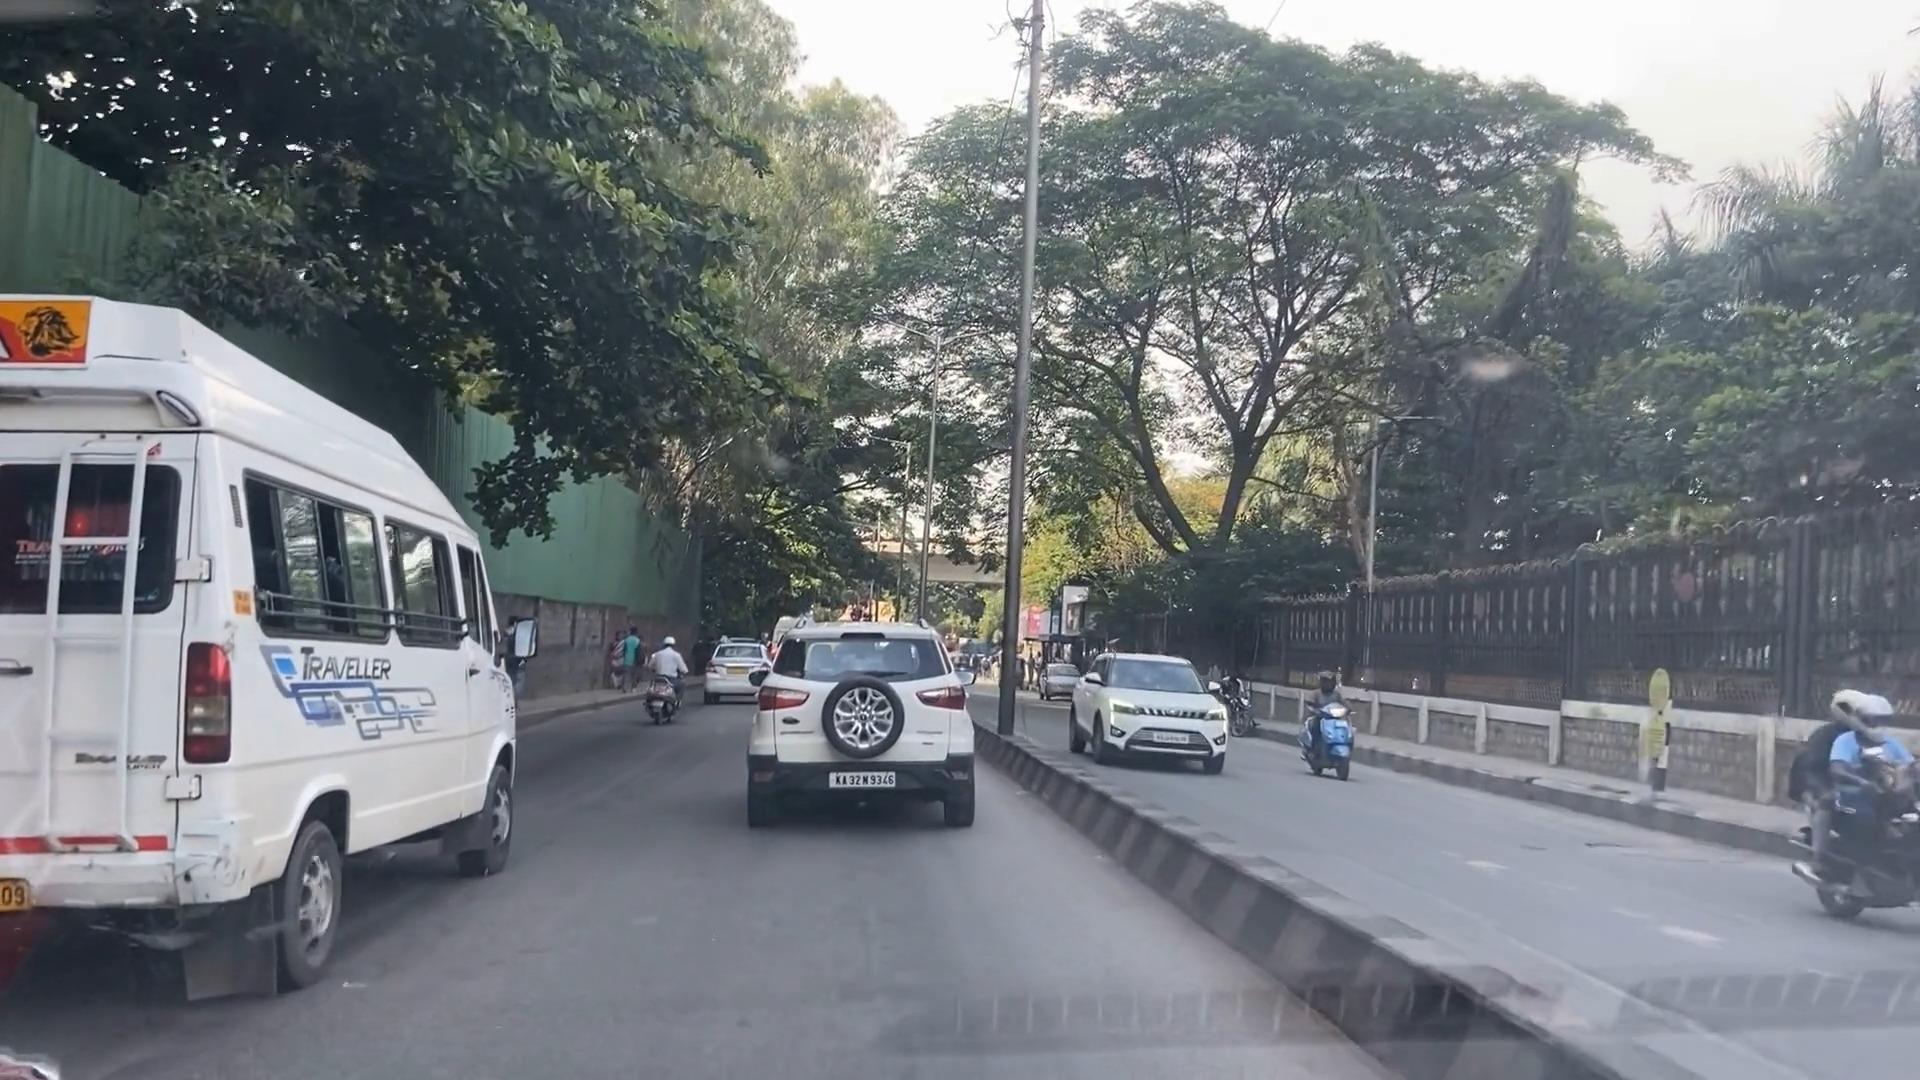HMV: (16, 306, 531, 994)
LMV: (748, 597, 977, 831)
